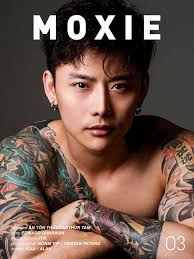asian_male: (41, 46, 156, 151)
